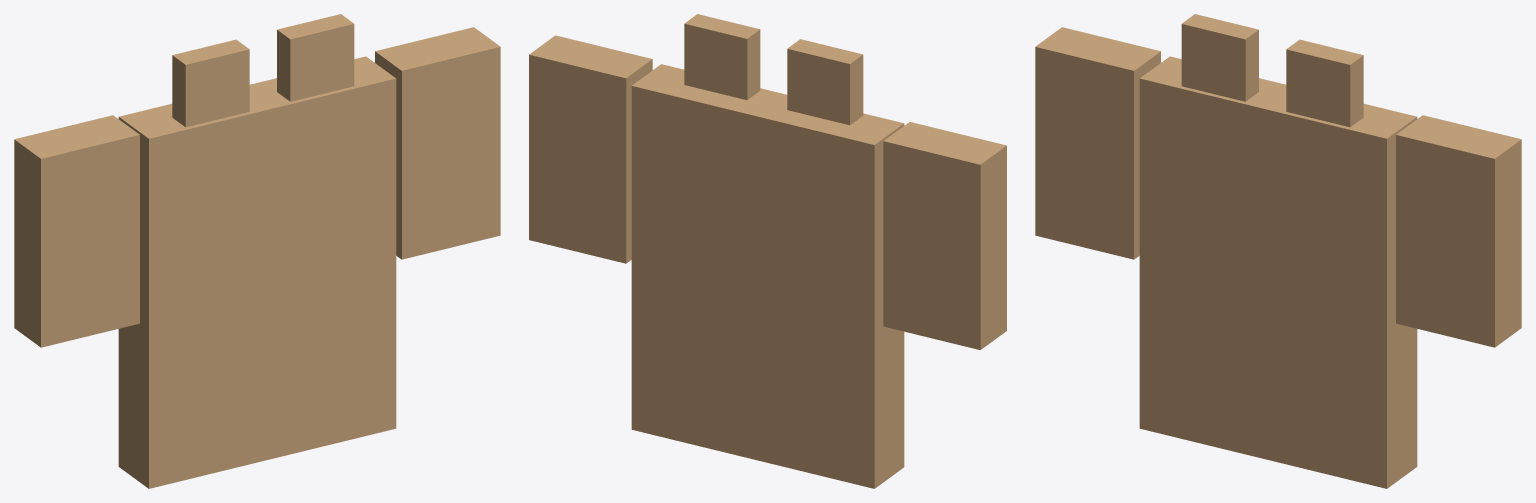
The model's file is test-shirt-placeholder.glb.
The picture shows the model from 3 angles, left to right: view 1: azimuth 30°, elevation 25°; view 2: azimuth 150°, elevation 25°; view 3: azimuth 330°, elevation 25°; orthographic projection.
Visible parts, largest first — view 1: Placeholder shirt mesh; view 2: Placeholder shirt mesh; view 3: Placeholder shirt mesh.
Boxes of the visible parts, x1=… form: Placeholder shirt mesh: x1=14, y1=14, x2=500, y2=488; Placeholder shirt mesh: x1=529, y1=14, x2=1006, y2=488; Placeholder shirt mesh: x1=1035, y1=14, x2=1521, y2=488.
Size of the model in its own units: 1.58 by 1.36 by 0.18.
